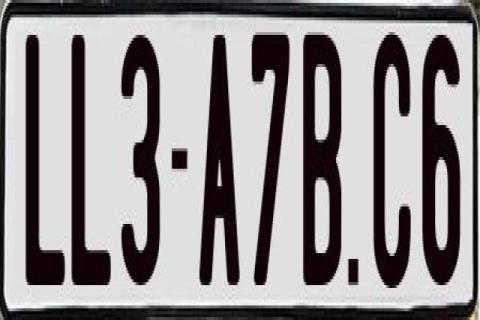0: (119, 35, 162, 299), (252, 32, 290, 296), (420, 27, 458, 286)
A: (198, 29, 242, 288)
B: (300, 29, 338, 288)
C: (374, 24, 412, 282)
L: (26, 29, 68, 288), (71, 35, 111, 299)
